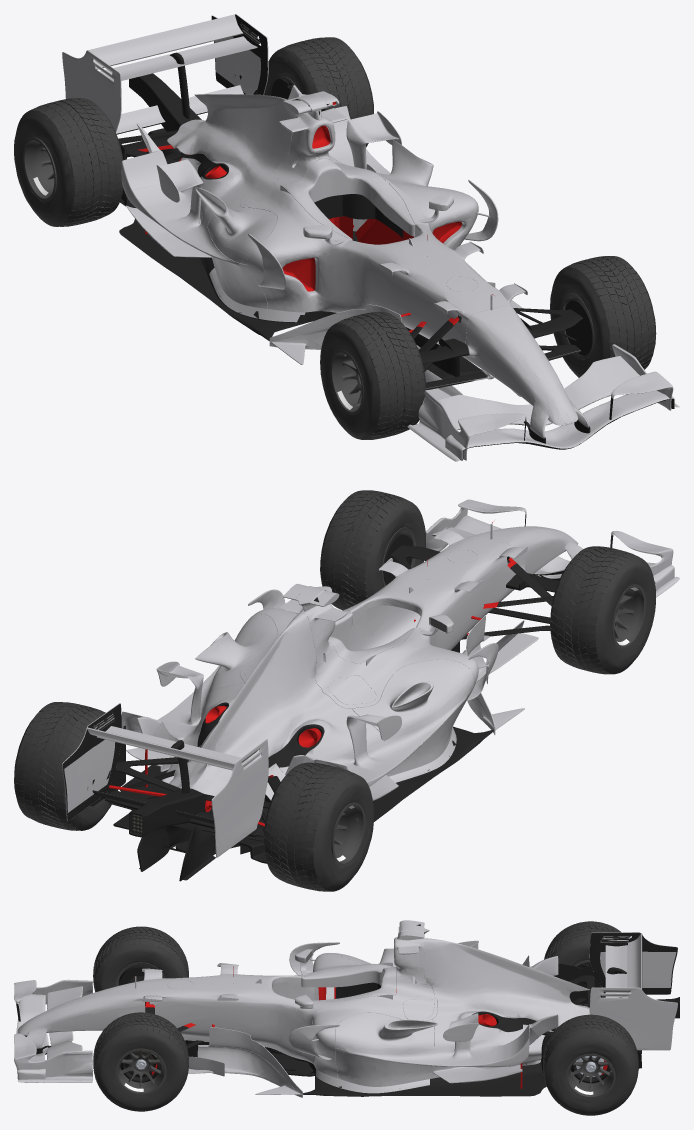
Rendered from f1-05-renault.obj.
3 renders of one model, top to bottom at view 1: azimuth 30°, elevation 25°; view 2: azimuth 150°, elevation 25°; view 3: azimuth 270°, elevation 25°, orthographic. The views are drawn at different scales.
Parts seen in each view (by area): view 1: BODY, WHEEL_RR, WHEEL_RF, WHEEL_LF, WHEEL_LR; view 2: BODY, WHEEL_RR, WHEEL_RF, WHEEL_LF, WHEEL_LR; view 3: BODY, WHEEL_LR, WHEEL_LF, WHEEL_RF, WHEEL_RR.
Boxes of the visible parts, bbox=[...] form: BODY: bbox=[62, 14, 679, 461]; WHEEL_RR: bbox=[14, 98, 123, 226]; WHEEL_RF: bbox=[320, 312, 426, 439]; WHEEL_LF: bbox=[550, 256, 656, 377]; WHEEL_LR: bbox=[264, 37, 373, 147]; BODY: bbox=[62, 499, 679, 881]; WHEEL_RR: bbox=[263, 762, 374, 891]; WHEEL_RF: bbox=[550, 546, 655, 674]; WHEEL_LF: bbox=[320, 490, 425, 610]; WHEEL_LR: bbox=[14, 702, 117, 830]; BODY: bbox=[14, 920, 679, 1097]; WHEEL_LR: bbox=[543, 1014, 638, 1115]; WHEEL_LF: bbox=[93, 1012, 188, 1111]; WHEEL_RF: bbox=[93, 926, 188, 992]; WHEEL_RR: bbox=[544, 921, 628, 1005].
Bounding box in the file's own units: 1.91 × 1.04 × 4.65.
